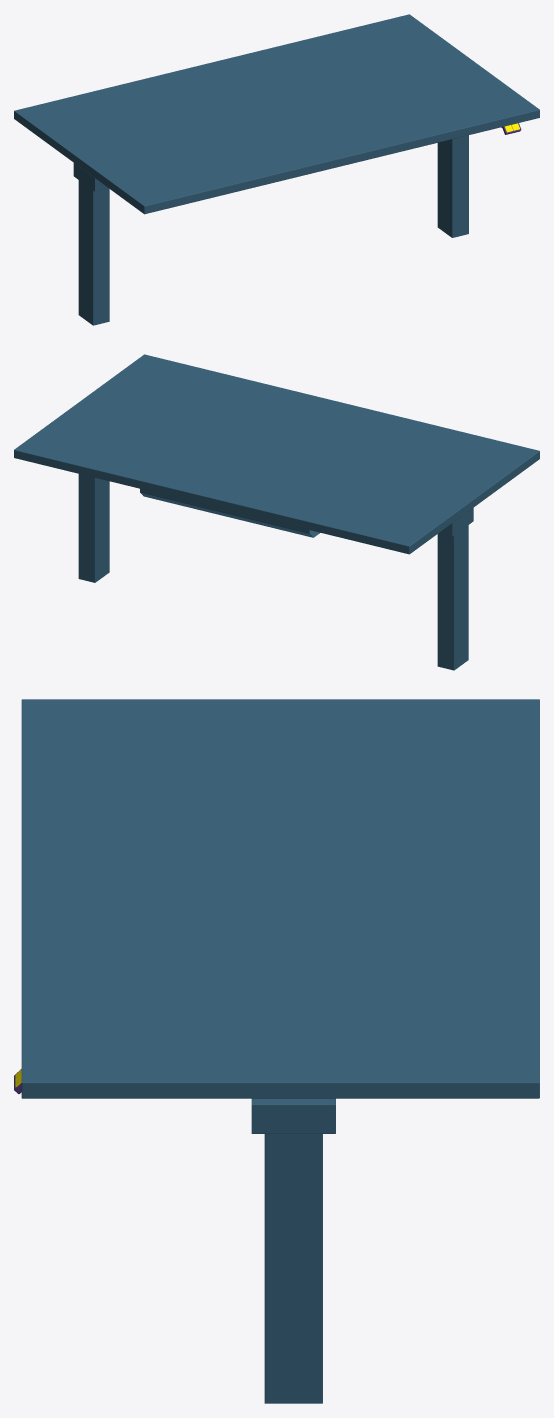
File: SM_Schreibtisch_Oben.fbx
3 renders of one model, top to bottom at view 1: azimuth 30°, elevation 25°; view 2: azimuth 150°, elevation 25°; view 3: azimuth 270°, elevation 25°, orthographic. The views are drawn at different scales.
Visible parts, largest first — view 1: SM_Schreibtisch_Oben; view 2: SM_Schreibtisch_Oben; view 3: SM_Schreibtisch_Oben.
Part boxes in pixels (bbox=[...]): SM_Schreibtisch_Oben: bbox=[14, 14, 539, 325]; SM_Schreibtisch_Oben: bbox=[14, 354, 539, 670]; SM_Schreibtisch_Oben: bbox=[14, 699, 539, 1403].
Size of the model in its own units: 140 by 56.36 by 81.16.
